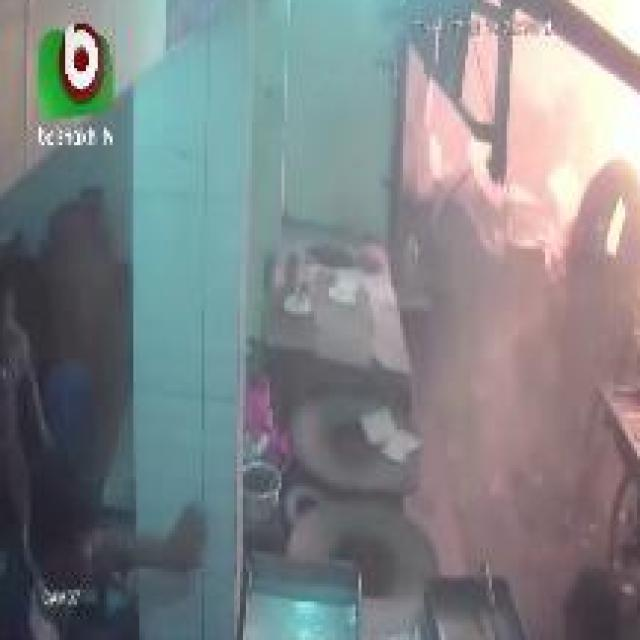smoke: (551, 0, 640, 237)
